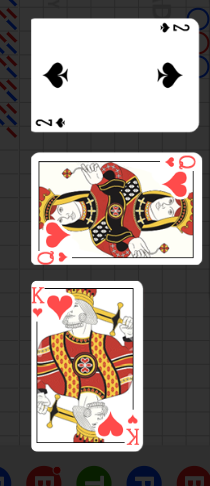2S: (35, 116, 68, 129)
KH: (125, 413, 141, 447), (31, 285, 45, 319)
